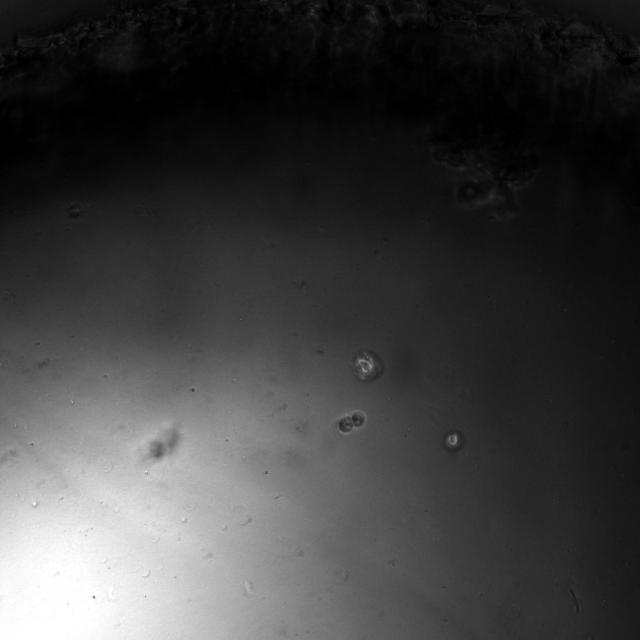organoid: (431, 140, 539, 219), (141, 426, 179, 460), (351, 349, 383, 381), (337, 410, 366, 433), (443, 430, 464, 450)
